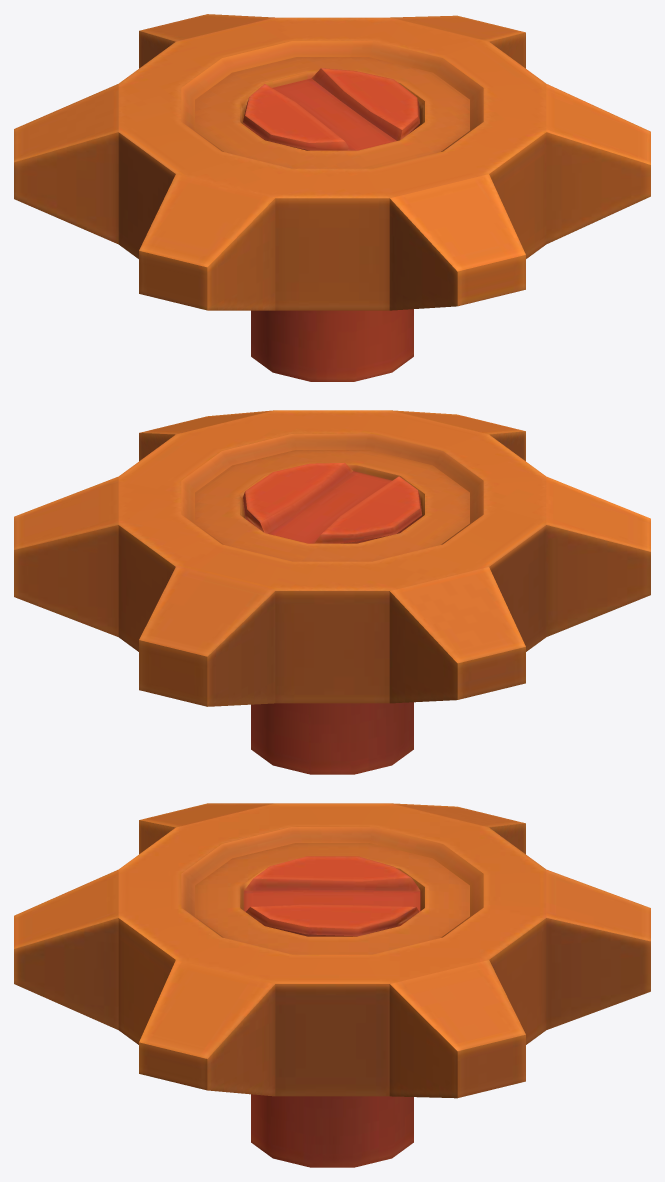
The model's file is obj_gear07_base.gltf.
3 views of the same model, one above another, from view 1: azimuth 30°, elevation 25°; view 2: azimuth 150°, elevation 25°; view 3: azimuth 270°, elevation 25° (orthographic).
Parts seen in each view (by area): view 1: obj_gear07_base; view 2: obj_gear07_base; view 3: obj_gear07_base.
Part boxes in pixels (x1=…): obj_gear07_base: x1=14, y1=14, x2=650, y2=381; obj_gear07_base: x1=14, y1=410, x2=650, y2=774; obj_gear07_base: x1=14, y1=803, x2=650, y2=1167.
Size of what is drawn, in the model's own units: 0.3121 by 0.1413 by 0.3363.
1 material, 1 textured.
